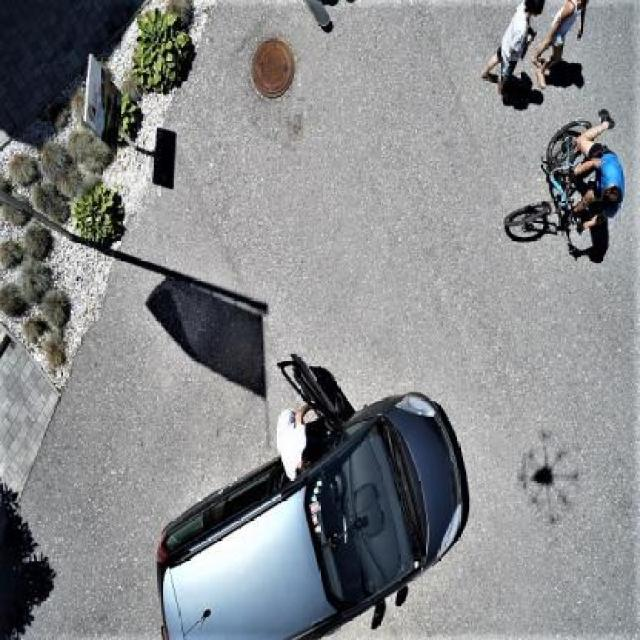Person: (568, 102, 628, 236), (480, 0, 545, 103), (532, 0, 590, 97), (266, 399, 309, 483)
